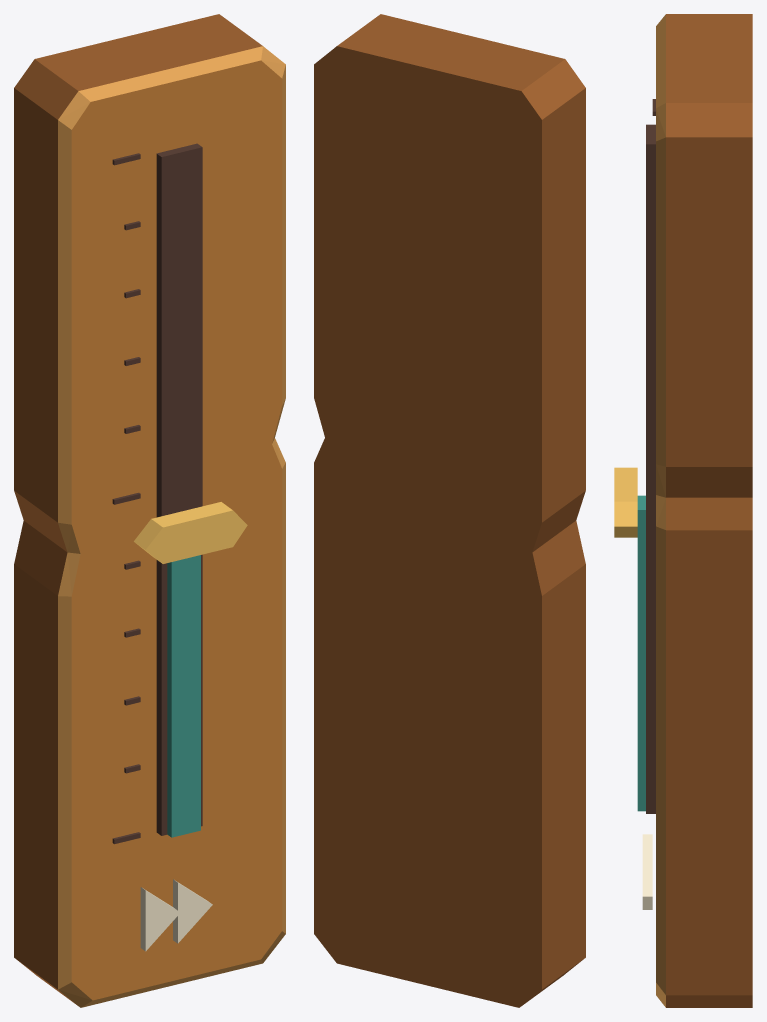
The model's file is Seek_V.fbx.
The picture shows the model from 3 angles, left to right: view 1: azimuth 30°, elevation 25°; view 2: azimuth 150°, elevation 25°; view 3: azimuth 270°, elevation 25°; orthographic projection.
Parts seen in each view (by area): view 1: Stone, Rail, Fill, Handle, SeekIcon, SeekIcon.001; view 2: Stone; view 3: Stone, Rail, Fill, Handle, SeekIcon.001.
Boxes of the visible parts, bbox=[...] form: Stone: bbox=[14, 14, 285, 1007]; Rail: bbox=[156, 143, 202, 835]; Fill: bbox=[167, 555, 200, 837]; Handle: bbox=[134, 502, 247, 563]; SeekIcon: bbox=[140, 887, 180, 951]; SeekIcon.001: bbox=[173, 879, 212, 943]; Stone: bbox=[314, 14, 585, 1007]; Stone: bbox=[656, 14, 752, 1007]; Rail: bbox=[646, 124, 655, 813]; Fill: bbox=[637, 495, 645, 811]; Handle: bbox=[614, 467, 637, 537]; SeekIcon.001: bbox=[642, 849, 652, 909].
Size of the model in its own units: 0.078 by 0.3 by 0.0415.
